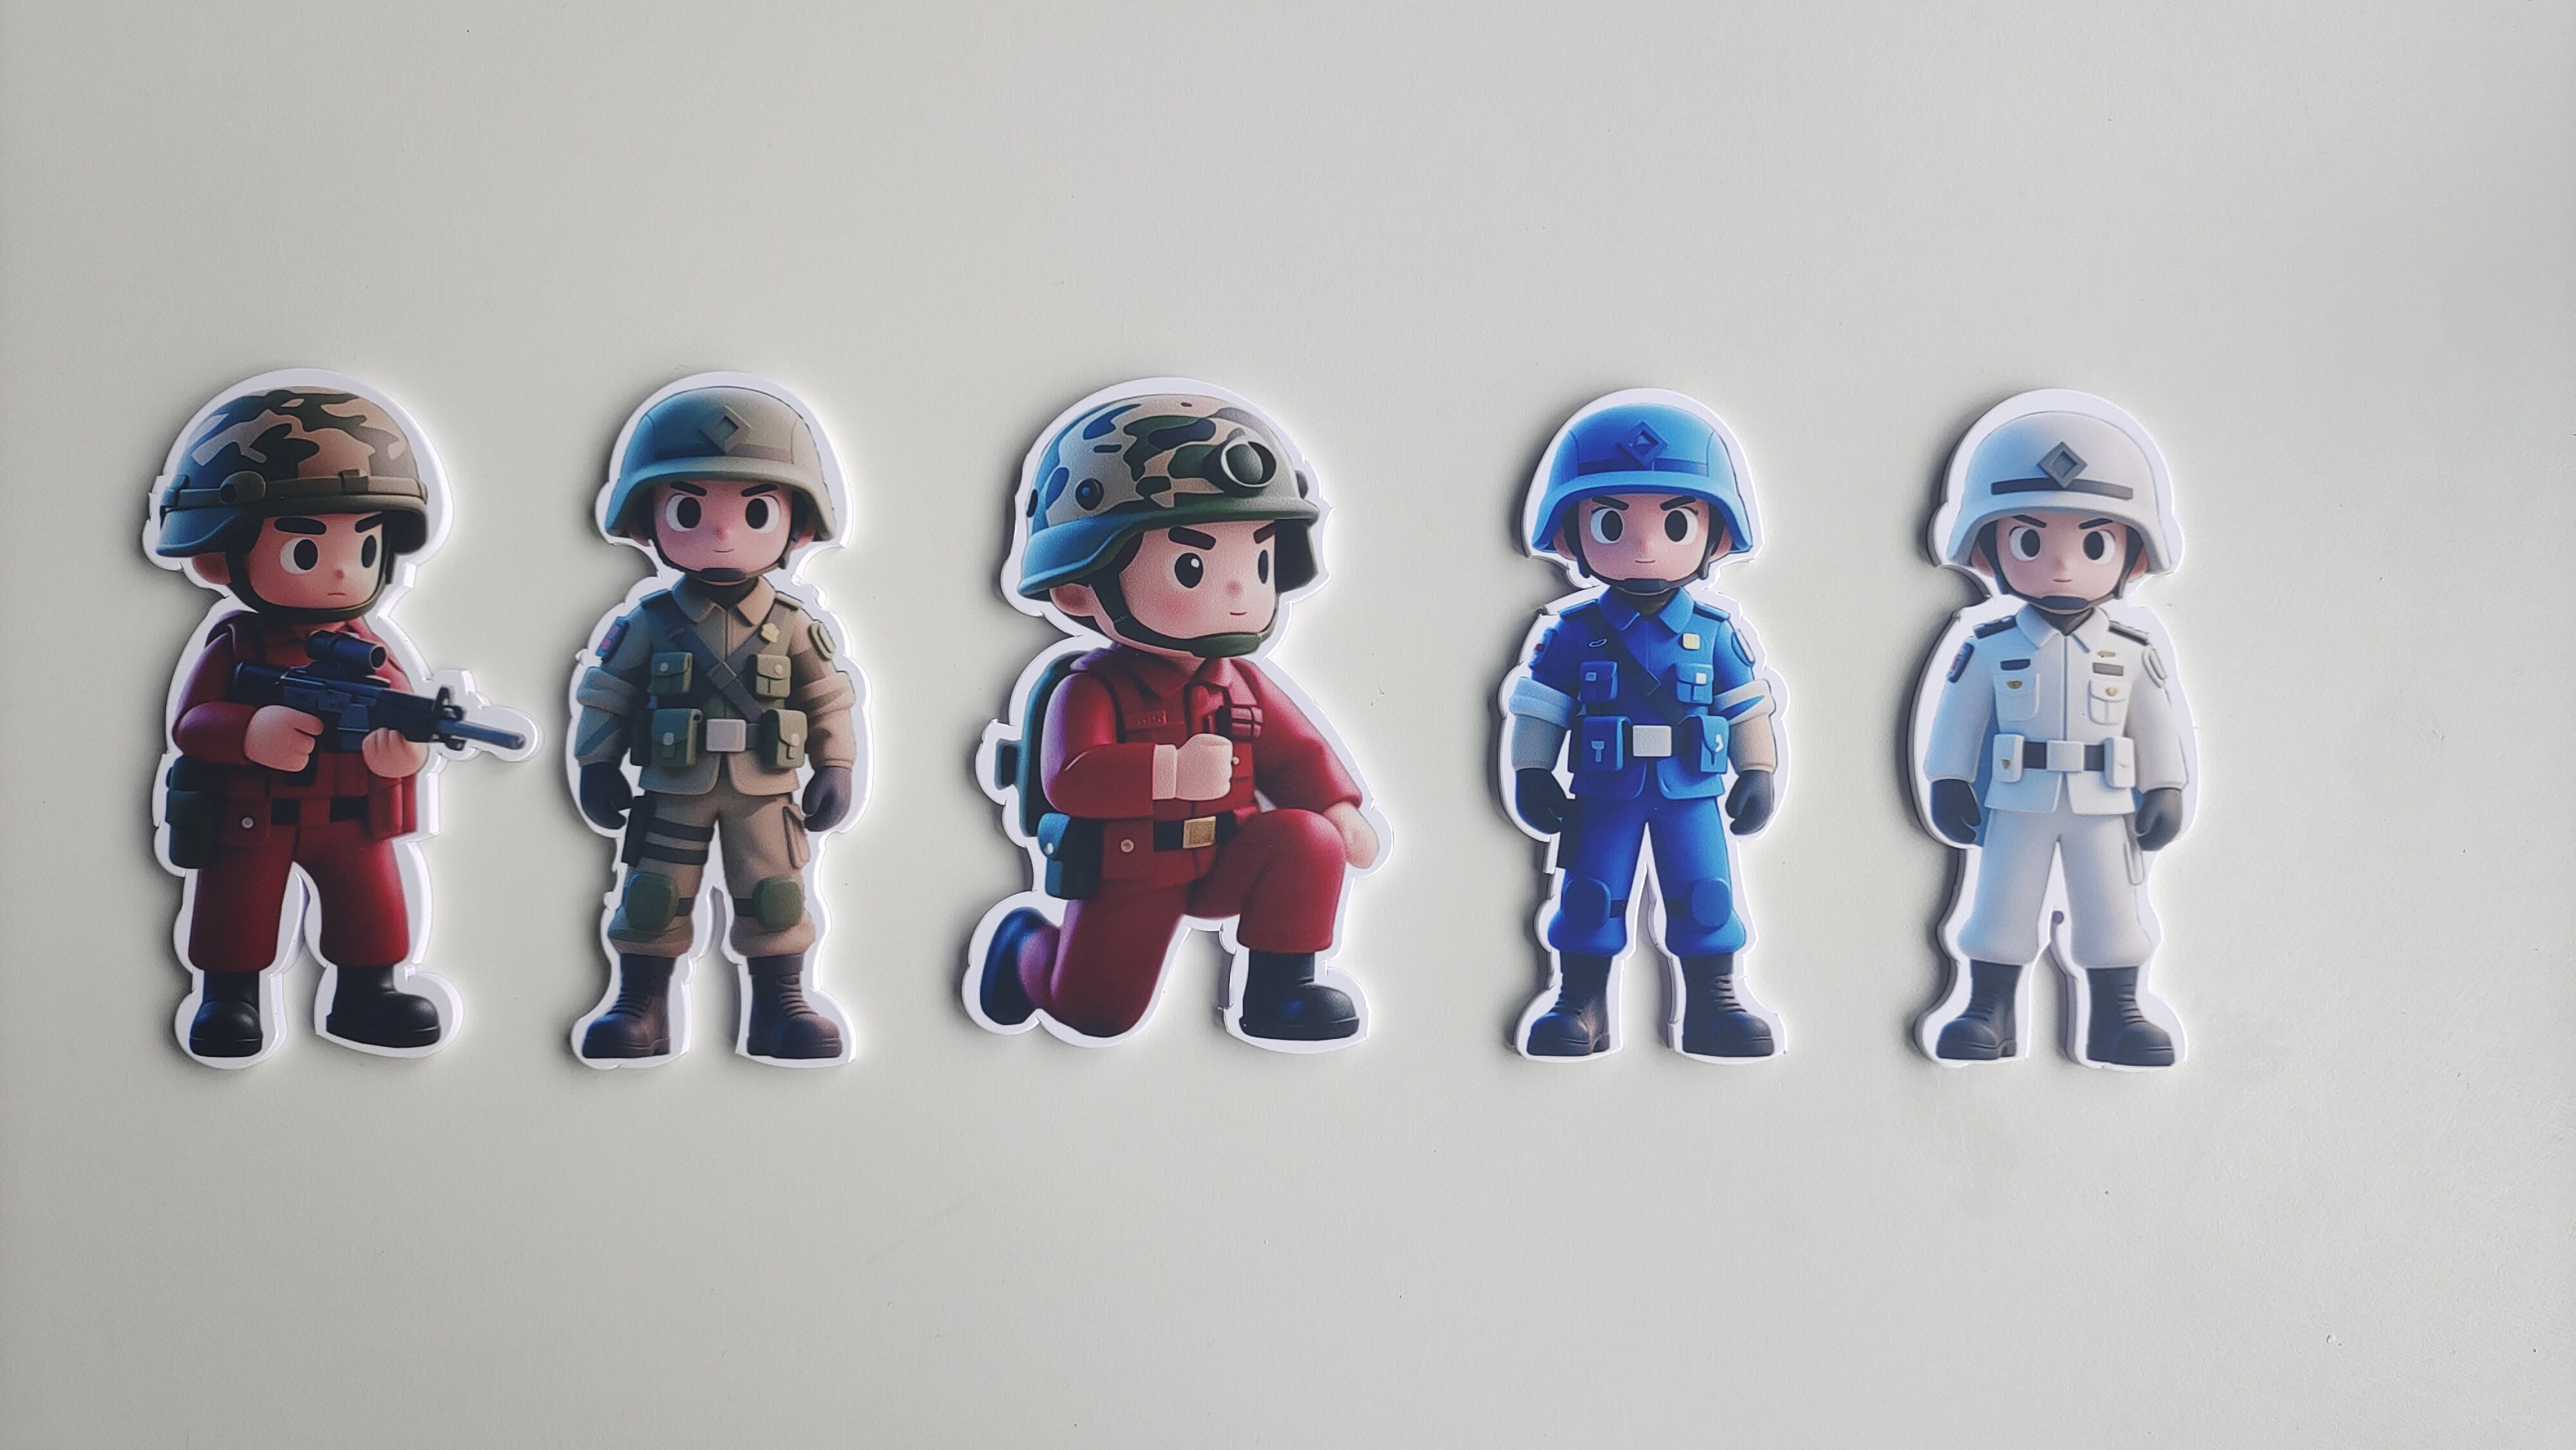enemy1: (943, 658, 1403, 1057), (142, 621, 474, 1065)
enemy2: (1479, 598, 1808, 1073)
friend: (548, 578, 869, 1080)
hostage: (1886, 608, 2231, 1088)
